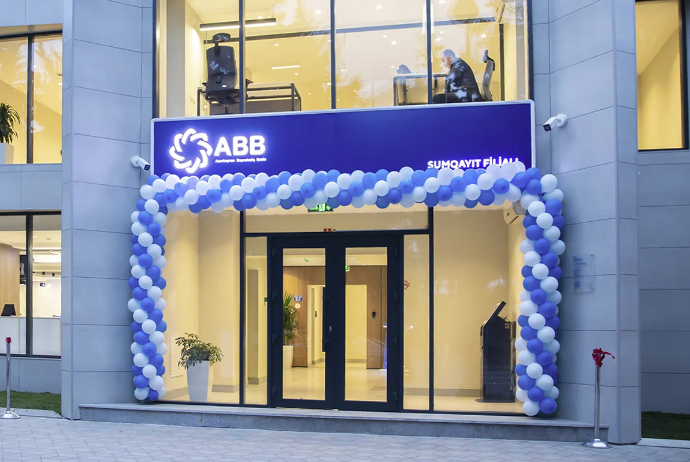ABB: (227, 115, 288, 158)
